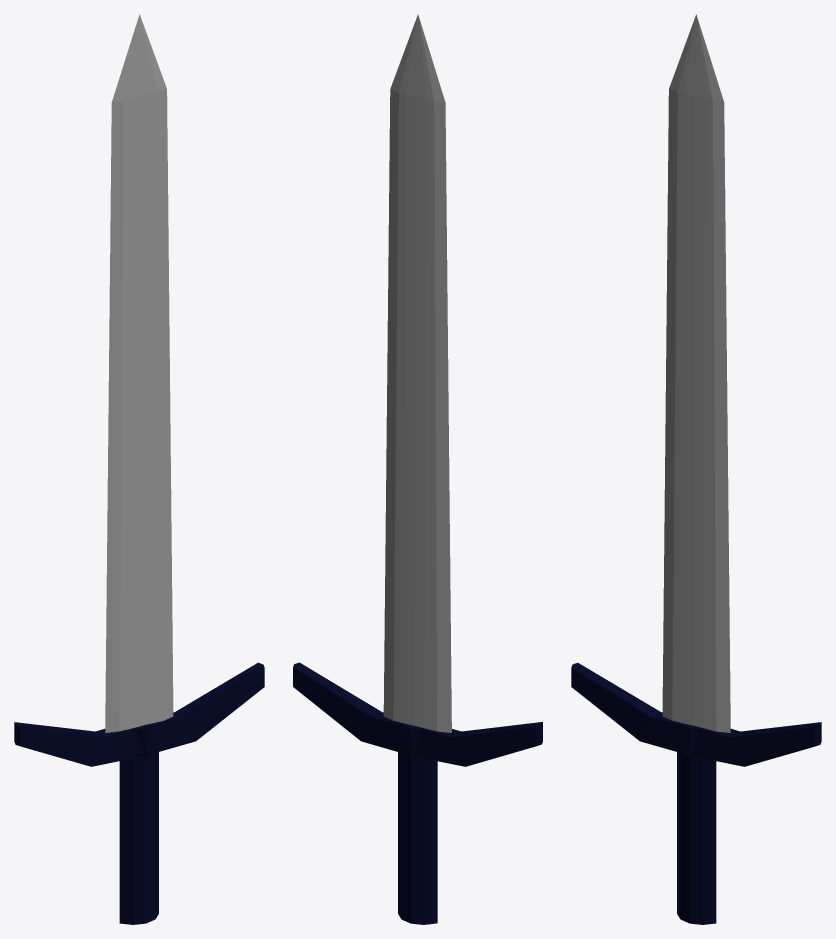
Rendered from KnightSword.fbx.
3 renders of one model, left to right at view 1: azimuth 30°, elevation 25°; view 2: azimuth 150°, elevation 25°; view 3: azimuth 330°, elevation 25°, orthographic.
Parts seen in each view (by area): view 1: Cube; view 2: Cube; view 3: Cube.
Boxes of the visible parts, x1,y1,x2,y2 form: Cube: [14, 14, 264, 924]; Cube: [293, 14, 542, 924]; Cube: [571, 14, 821, 924].
Size of the model in its own units: 290 by 1012 by 28.01.
